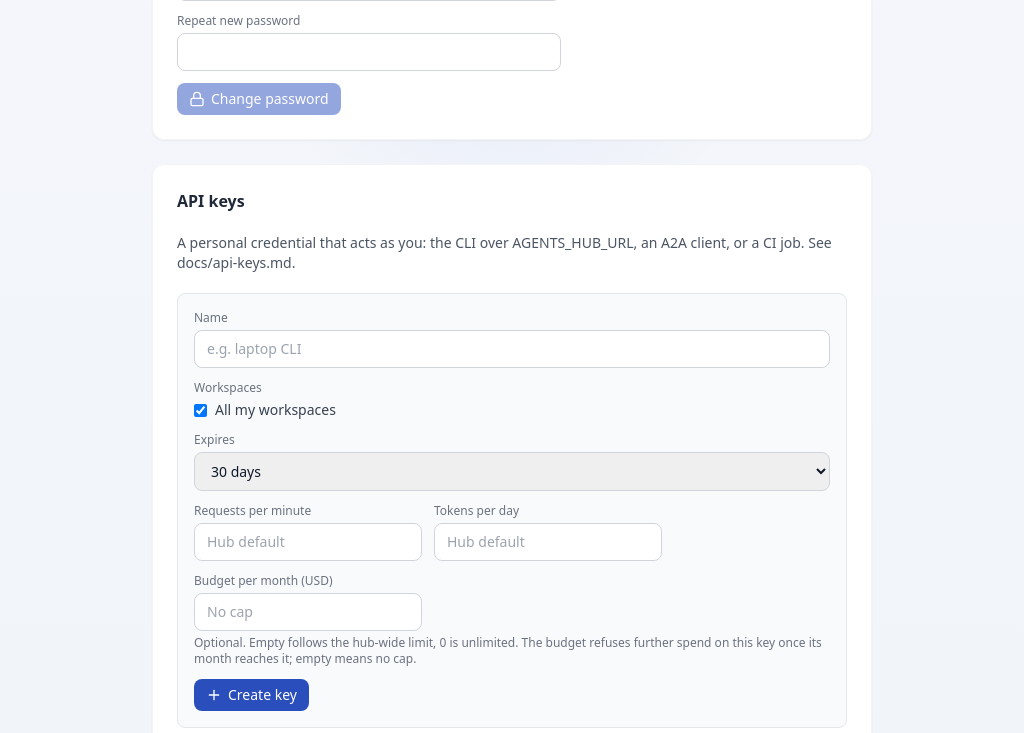
Test: Account › creates a key and shows it once, copyable
(page scrolled)
Type "ci" into the field with placeholder "e.g. laptop CLI". click: x=512, y=349
box: 194,330 -> 830,368
(page scrolled)
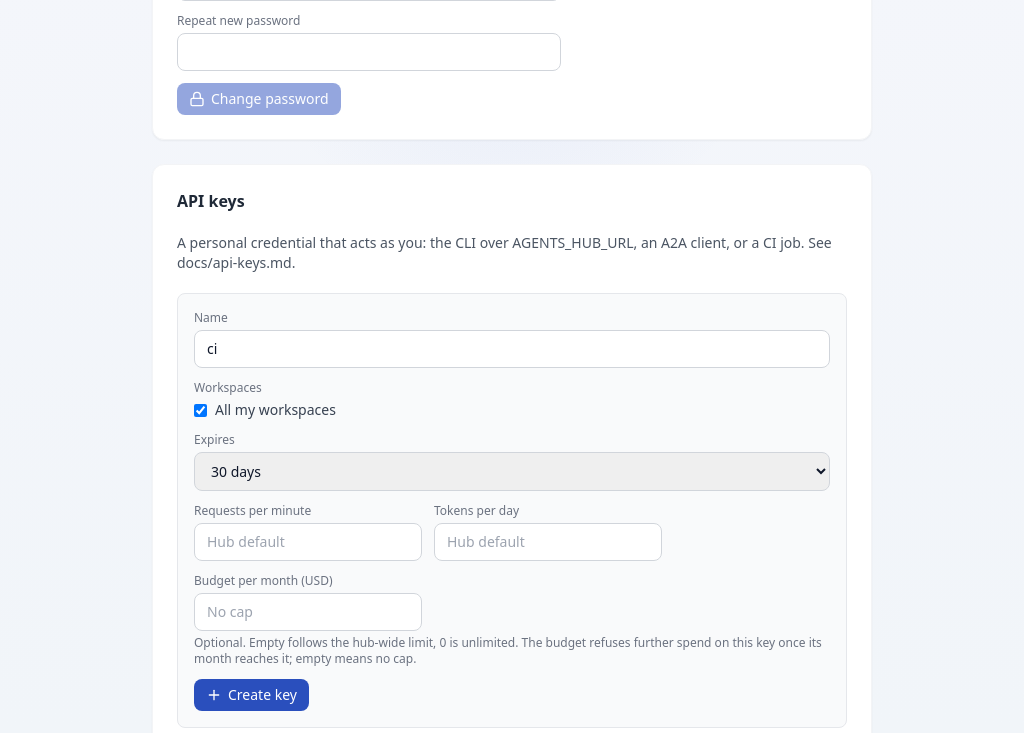
Click the button "Create key". click: x=251, y=695
box: 194,679 -> 309,711
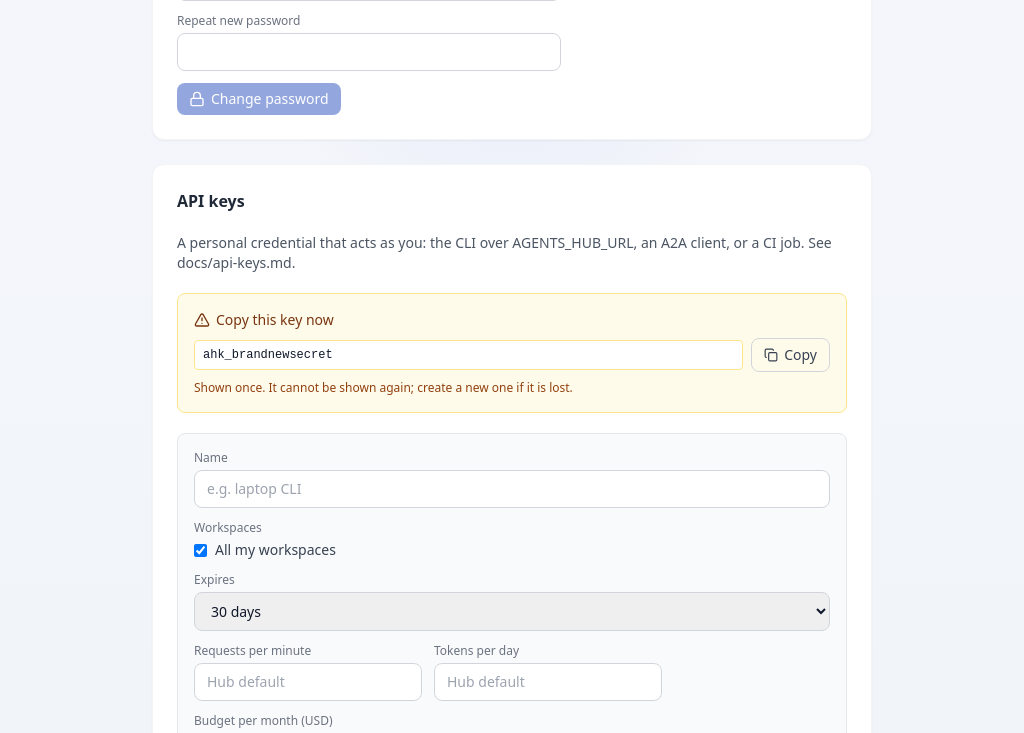
Result: the text "ahk_brandnewsecret" is shown at 194,340 -> 743,370
